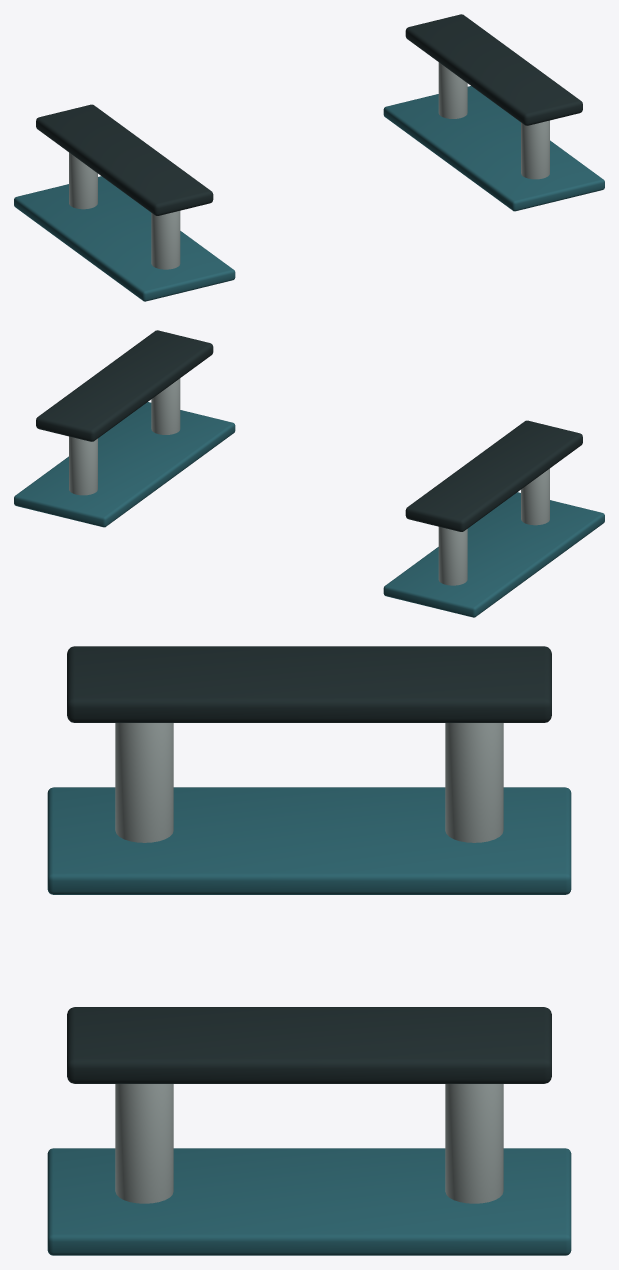
File: cage_cradle.glb
3 views of the same model, one above another, from view 1: azimuth 30°, elevation 25°; view 2: azimuth 150°, elevation 25°; view 3: azimuth 270°, elevation 25° (orthographic). The views are drawn at different scales.
Visible parts, largest first — view 1: Cradle sand anchor, Cradle sand anchor.001, Rubber resting saddle.001, Rubber resting saddle, Resting cradle foot.001, Resting cradle foot.003, Resting cradle foot.002, Resting cradle foot; view 2: Cradle sand anchor, Cradle sand anchor.001, Rubber resting saddle.001, Rubber resting saddle, Resting cradle foot, Resting cradle foot.002, Resting cradle foot.003, Resting cradle foot.001; view 3: Cradle sand anchor.001, Cradle sand anchor, Rubber resting saddle, Rubber resting saddle.001, Resting cradle foot, Resting cradle foot.001, Resting cradle foot.002, Resting cradle foot.003.
Boxes of the visible parts, <box> form: Cradle sand anchor: <box>14,176,235,301</box>; Cradle sand anchor.001: <box>383,86,604,211</box>; Rubber resting saddle.001: <box>405,14,582,125</box>; Rubber resting saddle: <box>36,104,213,215</box>; Resting cradle foot.001: <box>151,211,180,269</box>; Resting cradle foot.003: <box>521,120,549,179</box>; Resting cradle foot.002: <box>438,62,467,118</box>; Resting cradle foot: <box>69,152,97,209</box>; Cradle sand anchor: <box>383,492,604,617</box>; Cradle sand anchor.001: <box>14,402,235,527</box>; Rubber resting saddle.001: <box>36,330,213,441</box>; Rubber resting saddle: <box>405,420,582,531</box>; Resting cradle foot: <box>438,527,467,585</box>; Resting cradle foot.002: <box>69,436,97,495</box>; Resting cradle foot.003: <box>151,378,180,434</box>; Resting cradle foot.001: <box>521,468,549,525</box>; Cradle sand anchor.001: <box>47,1148,571,1255</box>; Cradle sand anchor: <box>47,787,571,894</box>; Rubber resting saddle: <box>67,646,551,722</box>; Rubber resting saddle.001: <box>67,1007,551,1083</box>; Resting cradle foot: <box>445,723,503,842</box>; Resting cradle foot.001: <box>115,723,173,842</box>; Resting cradle foot.002: <box>445,1084,503,1203</box>; Resting cradle foot.003: <box>115,1084,173,1203</box>.
Bounding box in the file's own units: 0.55 × 0.102 × 0.27.
